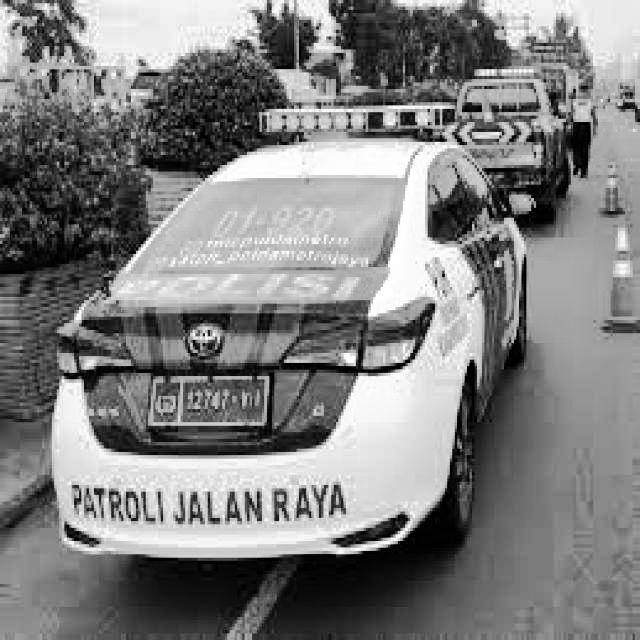Car: (67, 102, 542, 572)
